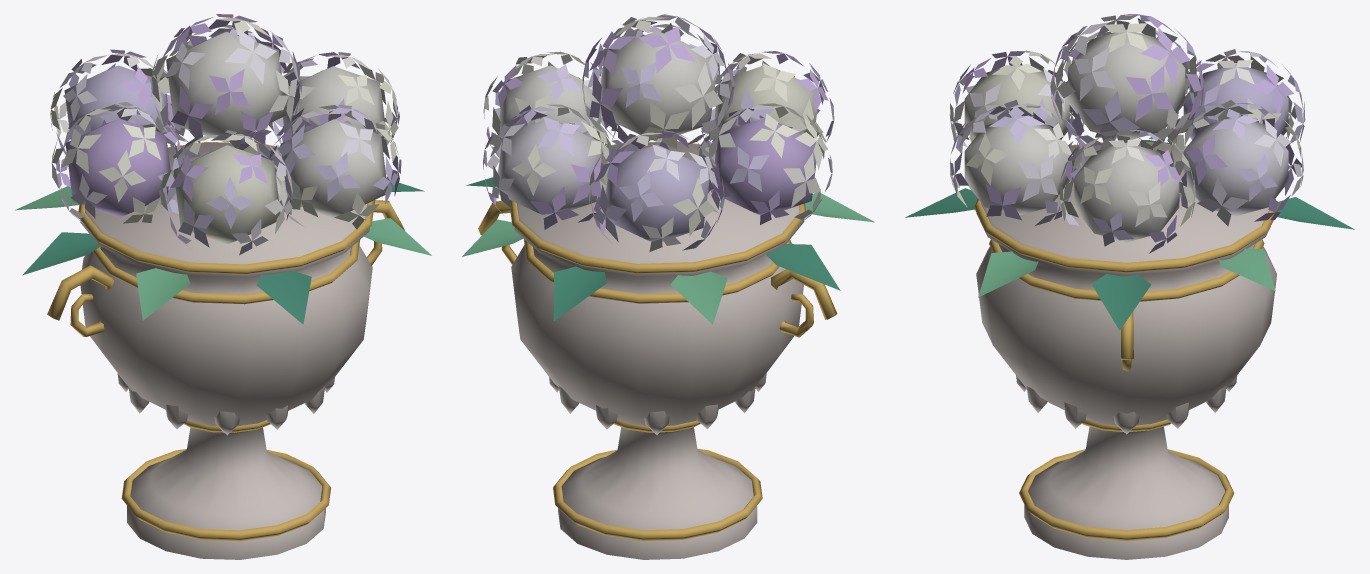
Rendered from urn_hydrangea_white.glb.
3 views of the same model, side by side, from view 1: azimuth 30°, elevation 25°; view 2: azimuth 150°, elevation 25°; view 3: azimuth 270°, elevation 25° (orthographic).
Visible parts, largest first — view 1: urn_hydrangea_white; view 2: urn_hydrangea_white; view 3: urn_hydrangea_white.
Part boxes in pixels (x1,y1,x2,y2): urn_hydrangea_white: (15, 14, 431, 559); urn_hydrangea_white: (462, 14, 874, 559); urn_hydrangea_white: (905, 14, 1354, 559).
Size of what is drawn, in the model's own units: 0.7 by 0.85 by 0.7.
